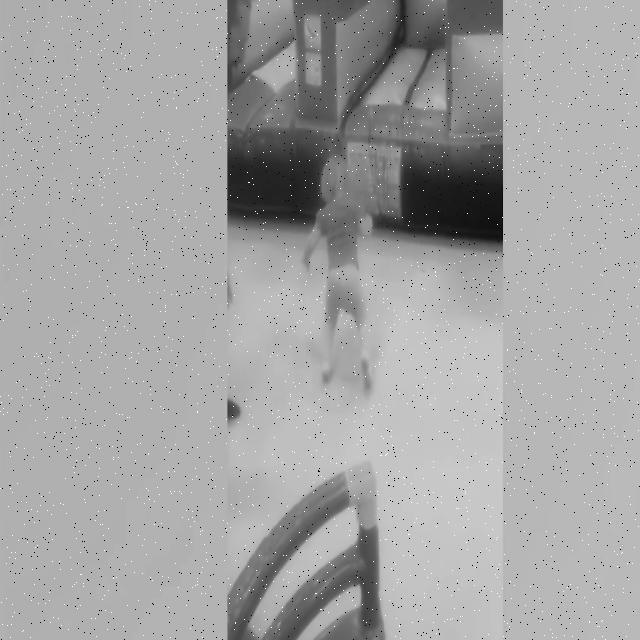child: (302, 157, 376, 401)
